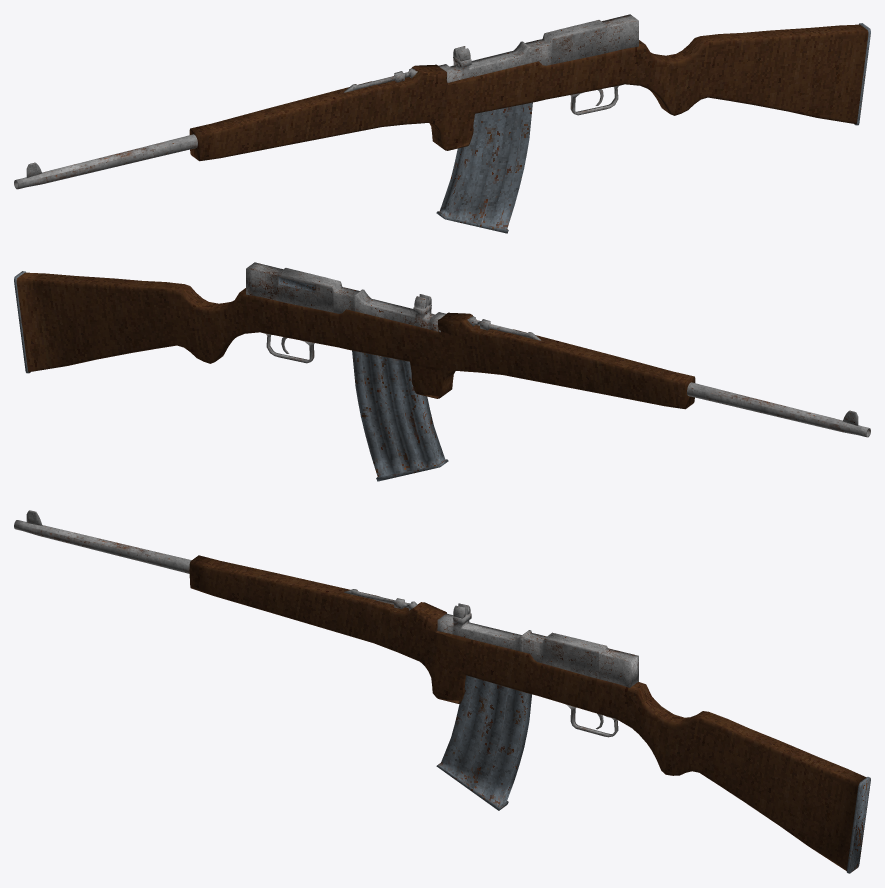
File: semi auto.glb
The picture shows the model from 3 angles, top to bottom: view 1: azimuth 30°, elevation 25°; view 2: azimuth 150°, elevation 25°; view 3: azimuth 330°, elevation 25°; orthographic projection.
Parts seen in each view (by area): view 1: Rifle; view 2: Rifle; view 3: Rifle.
Boxes of the visible parts, box(x1,y1,x2,y2) form: Rifle: box(14, 14, 870, 233); Rifle: box(14, 262, 870, 481); Rifle: box(14, 510, 870, 873).
Bounding box in the file's own units: 22.94 × 4.96 × 0.5388.
Materials: 3 (3 with a texture image).
